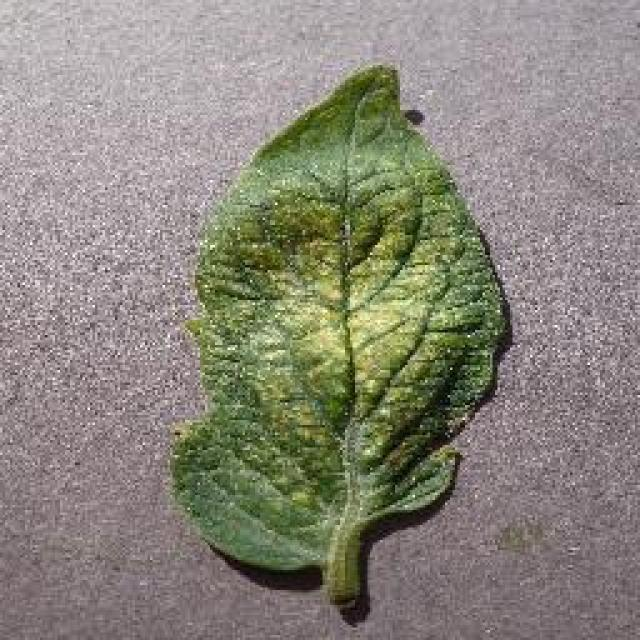Tom_Spider_mites Two-spotted_spider_mite: (213, 178, 432, 498)
